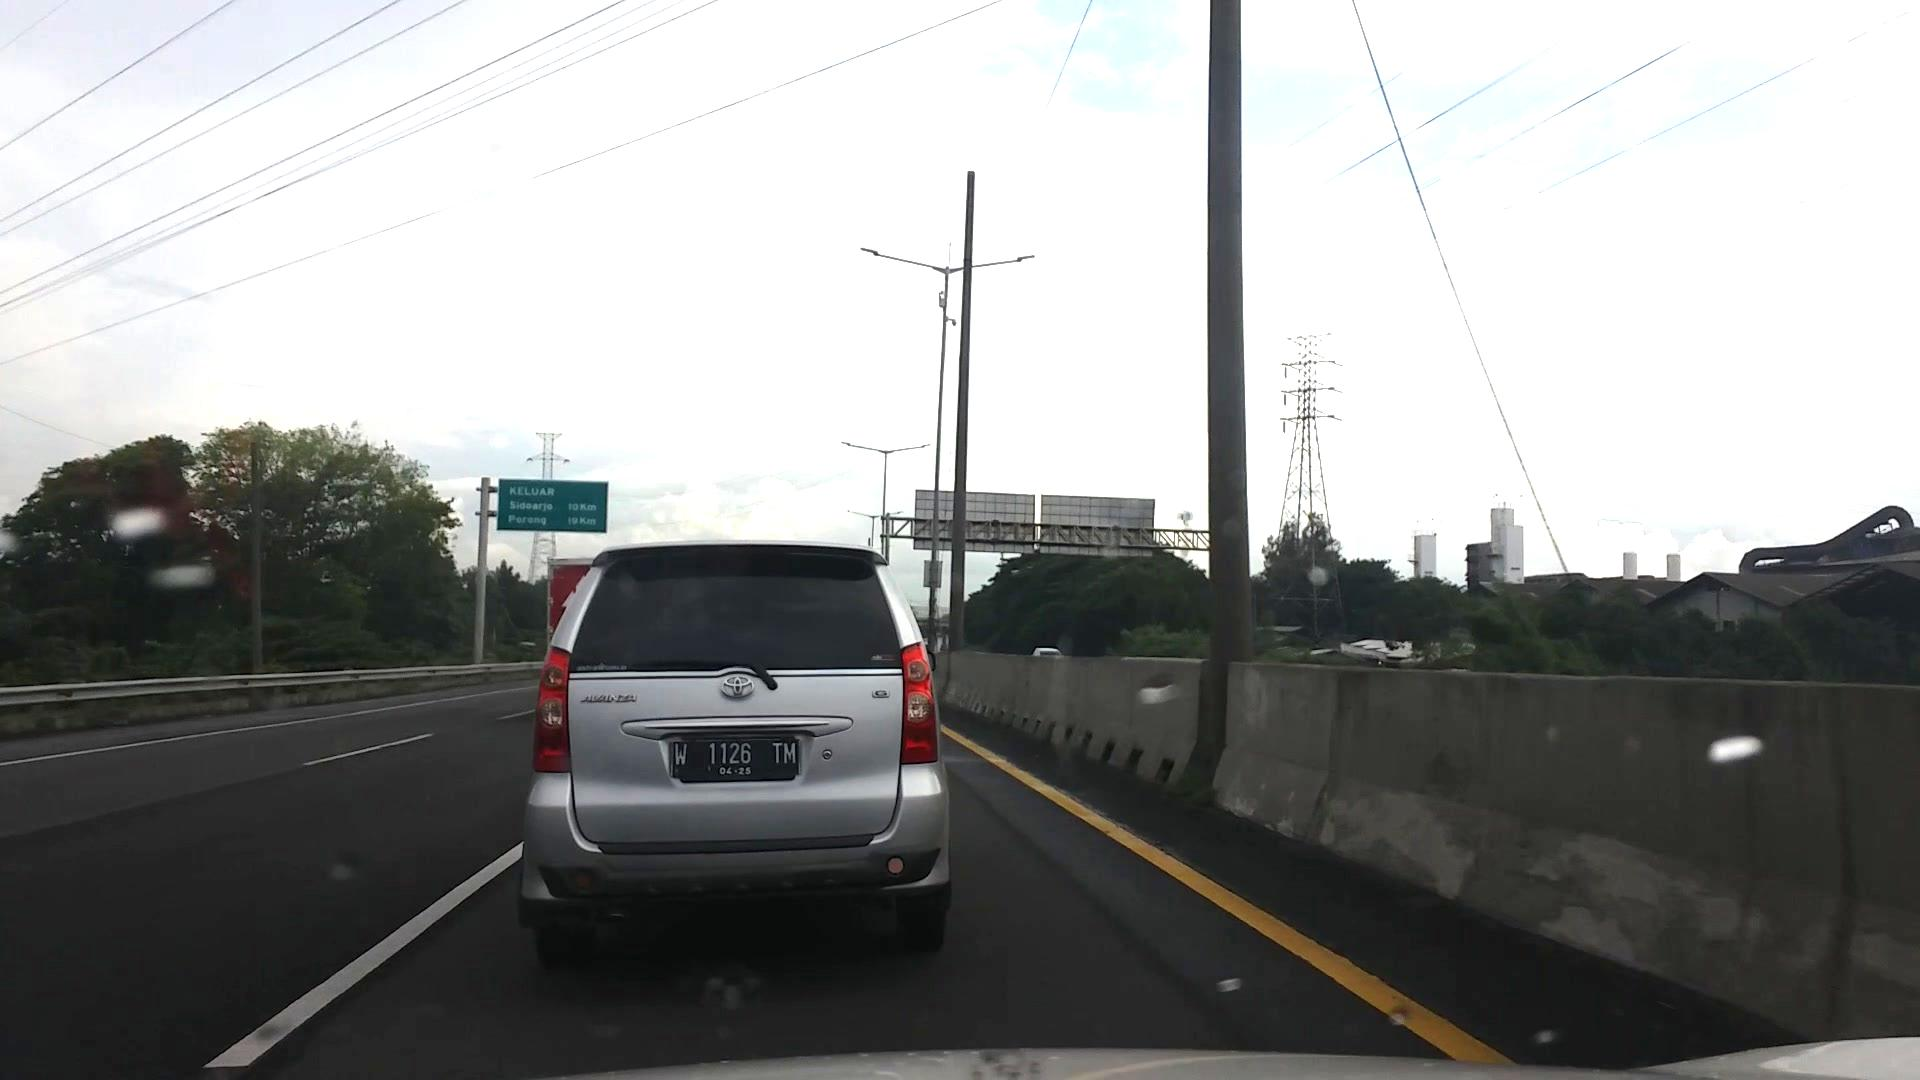plate_positive: (670, 738, 799, 782)
